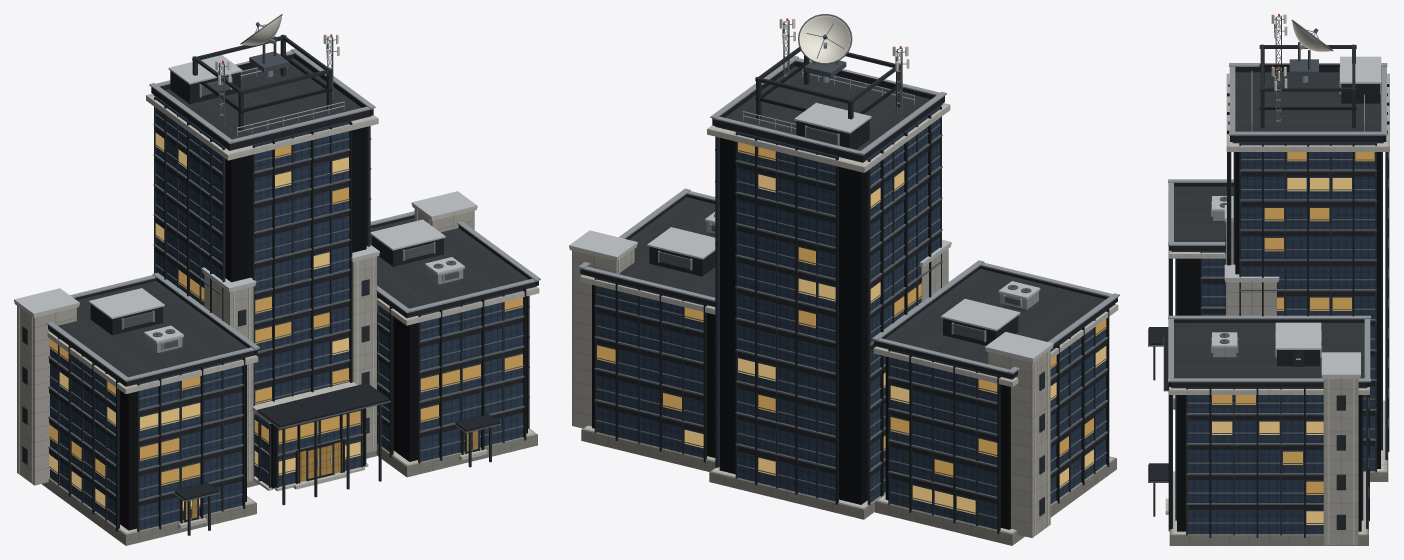
The model's file is townhall-information-age-built.glb.
3 views of the same model, side by side, from view 1: azimuth 30°, elevation 25°; view 2: azimuth 150°, elevation 25°; view 3: azimuth 270°, elevation 25° (orthographic). The views are drawn at different scales.
Size of the model in its own units: 52.44 by 48.52 by 24.88.
49 materials, 36 textured.
